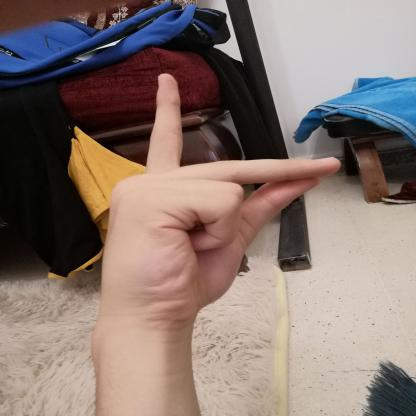TAA: (83, 61, 358, 344)
